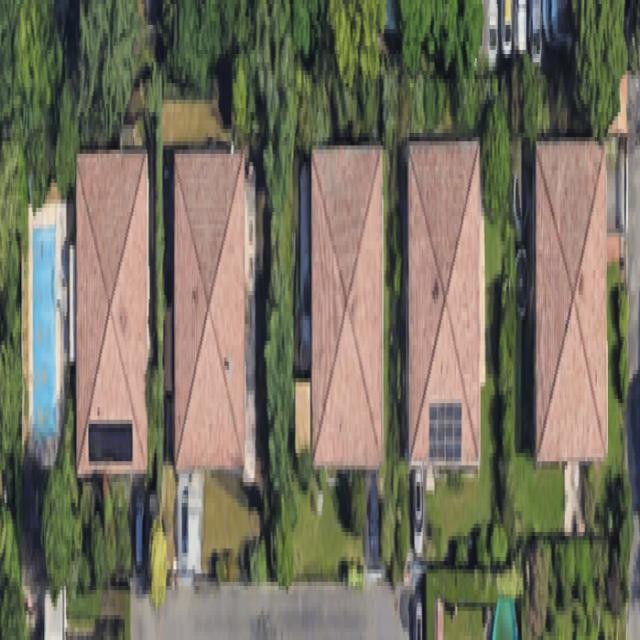maison: (76, 154, 149, 470), (532, 150, 606, 461), (172, 150, 244, 468), (409, 145, 483, 453), (312, 149, 382, 461)
